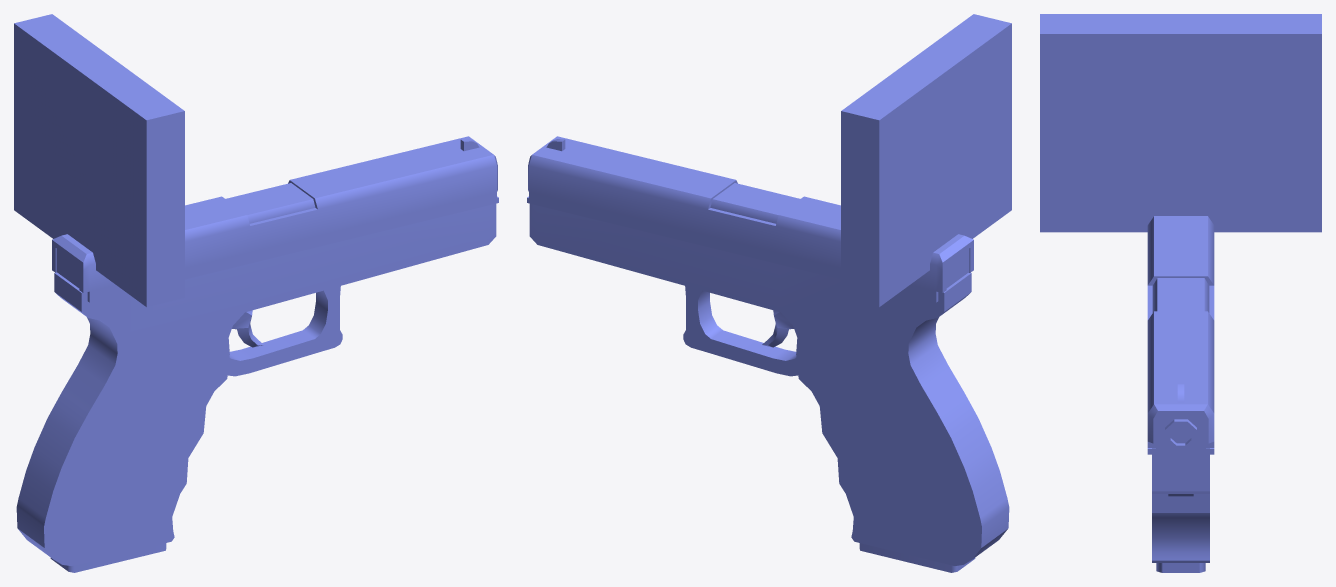
File: ResizeTool.obj
3 views of the same model, side by side, from view 1: azimuth 30°, elevation 25°; view 2: azimuth 150°, elevation 25°; view 3: azimuth 270°, elevation 25° (orthographic). The views are drawn at different scales.
Visible parts, largest first — view 1: Handle, Display; view 2: Handle, Display; view 3: Display, Handle.
Part boxes in pixels (x1,y1,x2,y2): Handle: [16, 136, 498, 572]; Display: [14, 14, 184, 307]; Handle: [527, 136, 1009, 572]; Display: [841, 14, 1011, 307]; Display: [1040, 14, 1321, 232]; Handle: [1147, 216, 1214, 572].
Bounding box in the file's own units: 0.7168 × 0.7318 × 0.36.
